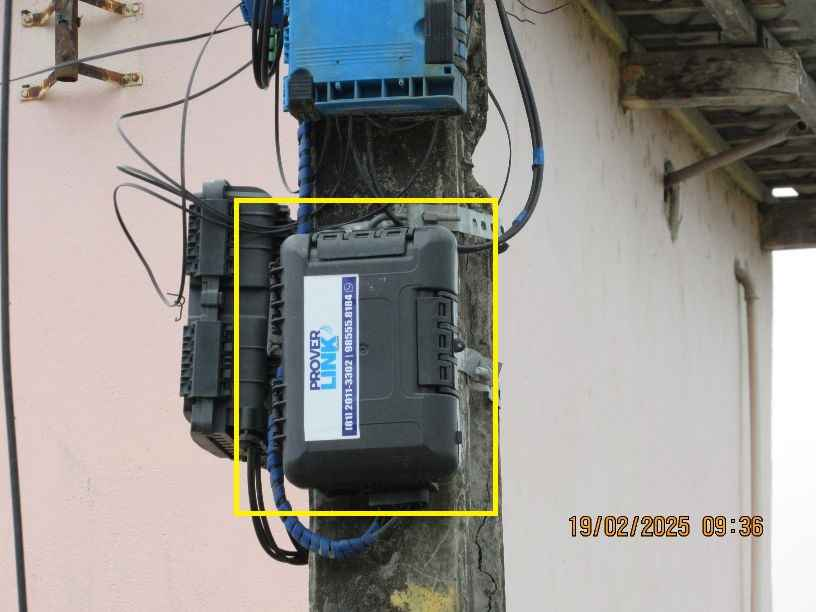caixa_derivacao: (265, 220, 471, 490), (175, 173, 287, 453)
